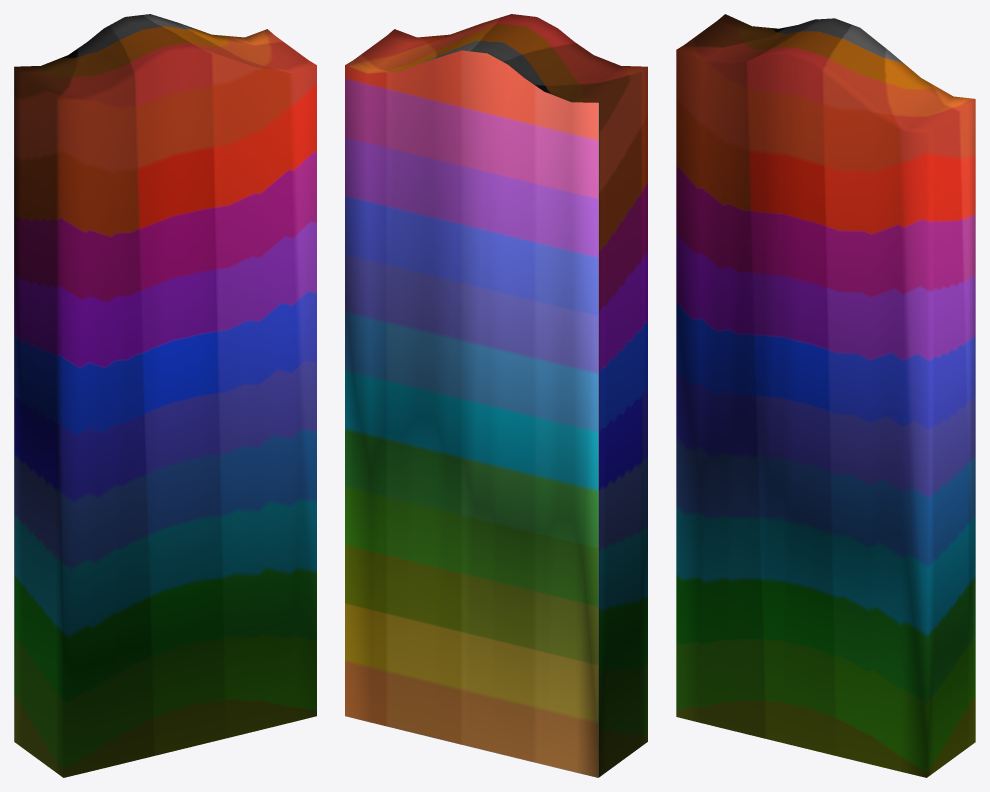
The model's file is Western_Platform_DeformMesh5.fbx.
The picture shows the model from 3 angles, left to right: view 1: azimuth 30°, elevation 25°; view 2: azimuth 150°, elevation 25°; view 3: azimuth 330°, elevation 25°; orthographic projection.
Visible parts, largest first — view 1: Cube.004; view 2: Cube.004; view 3: Cube.004.
Boxes of the visible parts, x1,y1,x2,y2 form: Cube.004: (14,14,316,777); Cube.004: (345,14,647,777); Cube.004: (676,14,975,777).
Size of the model in its own units: 1656 by 4358 by 564.
Materials: 1 (1 with a texture image).
